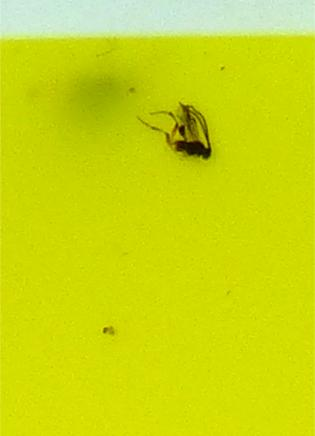Hymenoptera: (137, 100, 215, 162)
